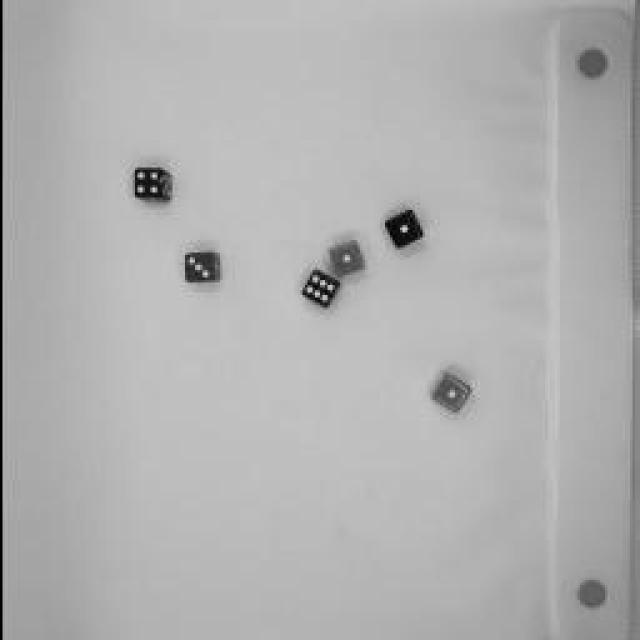dice_1: (426, 368, 472, 418), (378, 208, 424, 252), (324, 239, 364, 281)
dice_3: (180, 248, 220, 288)
dice_4: (126, 161, 174, 209)
dice_6: (295, 270, 340, 315)
